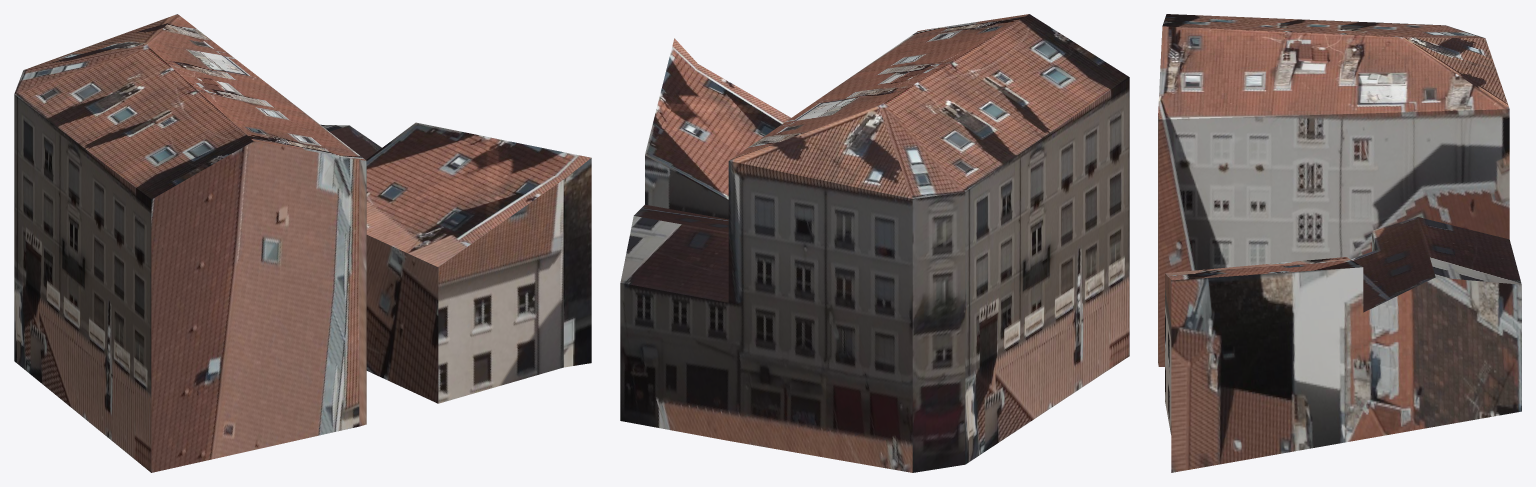
3 views of the same model, side by side, from view 1: azimuth 30°, elevation 25°; view 2: azimuth 150°, elevation 25°; view 3: azimuth 270°, elevation 25° (orthographic). The views are drawn at different scales.
Visible parts, largest first — view 1: Z_UP; view 2: Z_UP; view 3: Z_UP.
Part boxes in pixels (box(x1,y1,x2,y2)): Z_UP: box(14, 14, 591, 472); Z_UP: box(620, 14, 1129, 472); Z_UP: box(1158, 14, 1521, 472).
Bounding box in the file's own units: 30.67 × 20.45 × 23.26.
2 materials, 1 textured.
